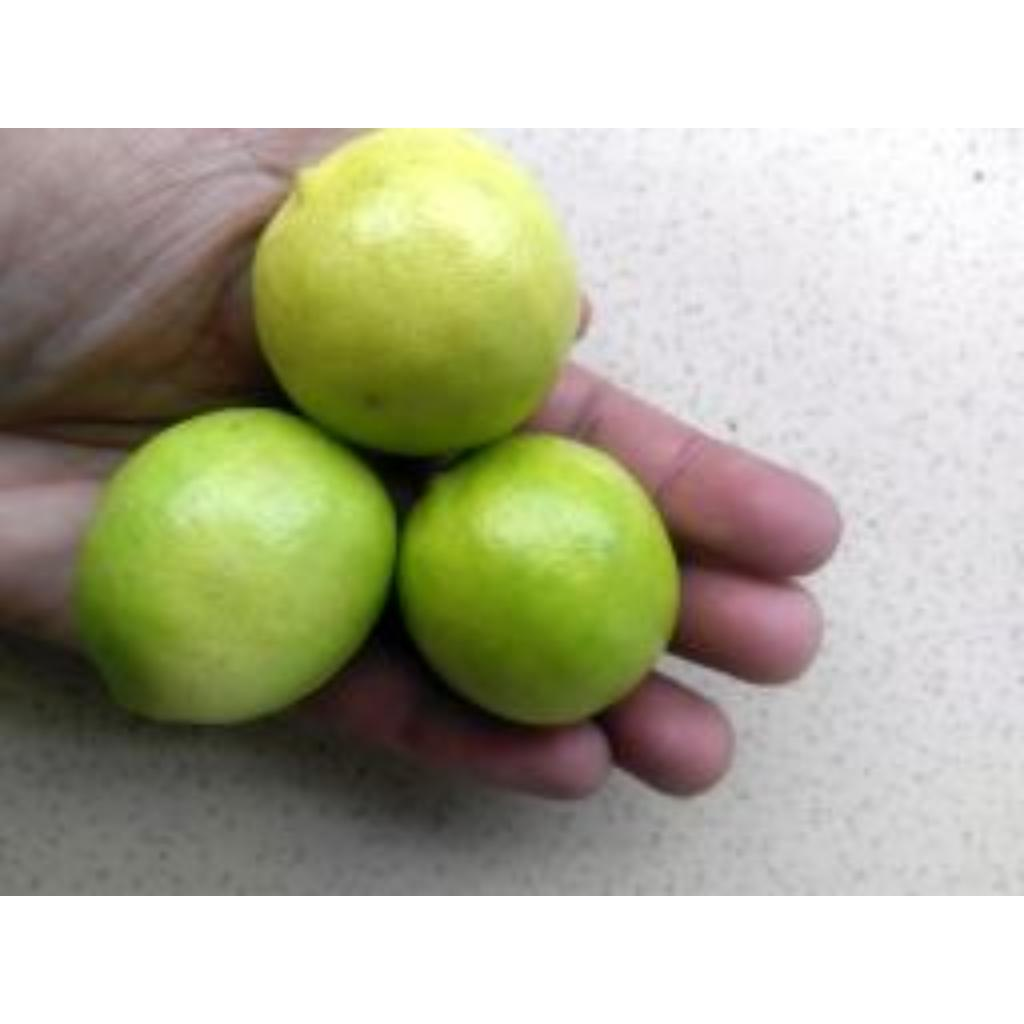lemon: (254, 130, 576, 455), (76, 408, 396, 723), (398, 434, 676, 724)
